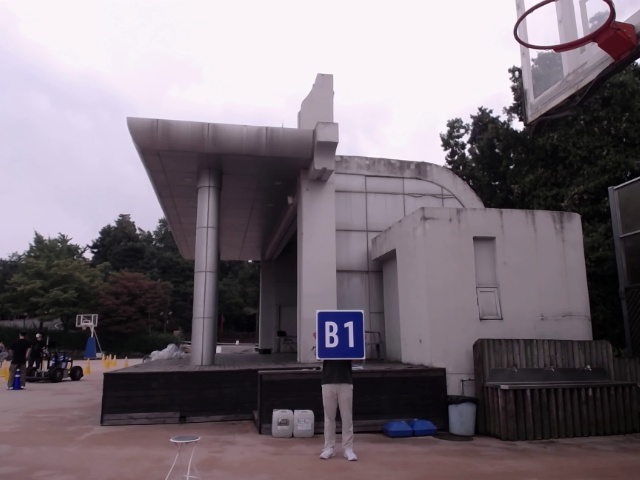delivery_b1: (316, 310, 365, 359)
